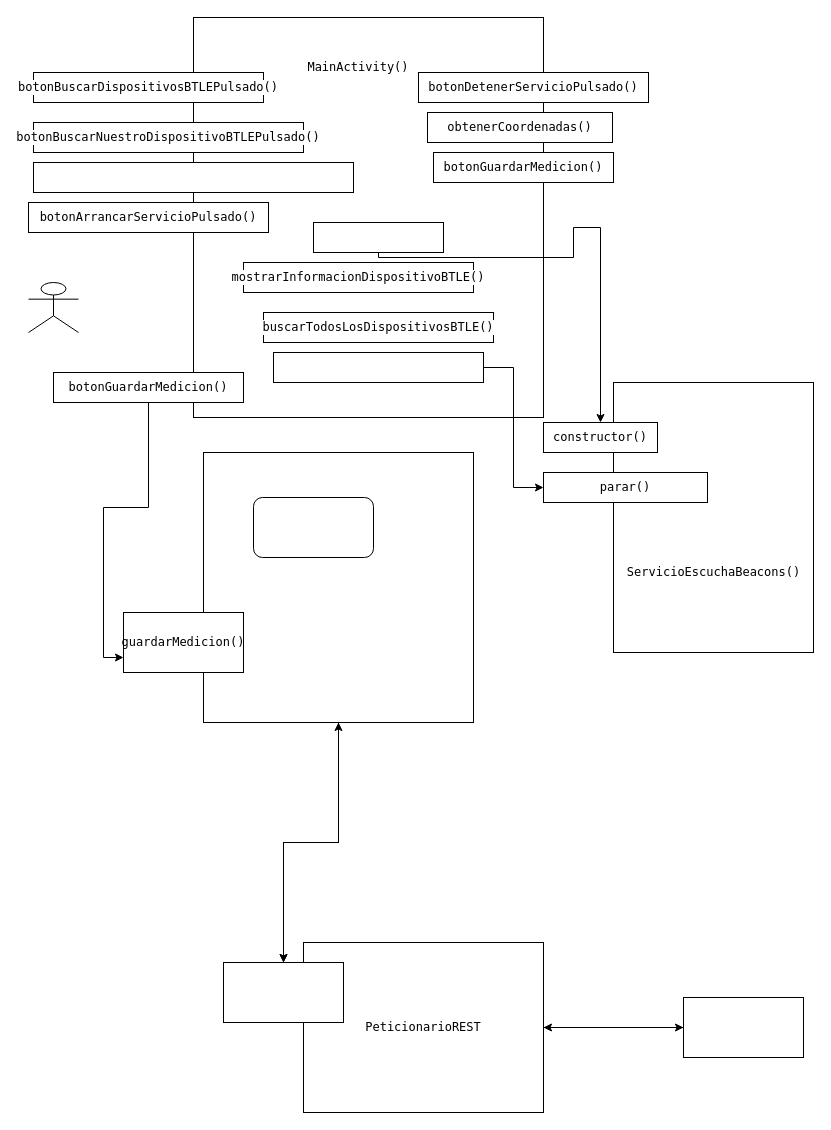
Some shapes in this 831 by 1130 pixel diagram are drawn without their labels. The shapes that lost their labels are listed below. From the top down, each one's box as (x1, y1, x2, y2) in pixels, then its label:
(32, 162, 354, 192): botonDetenerBusquedaDispositivosBTLEPulsado()
(312, 222, 444, 252): buscarEsteDispositivoBTLE()
(28, 282, 78, 332): Actor
(272, 352, 484, 382): detenerBusquedaDispositivosBTLE()
(252, 496, 374, 558): LOGICA FAKE
(222, 962, 344, 1022): hacerPeticionREST()
(682, 996, 804, 1058): Servidor
